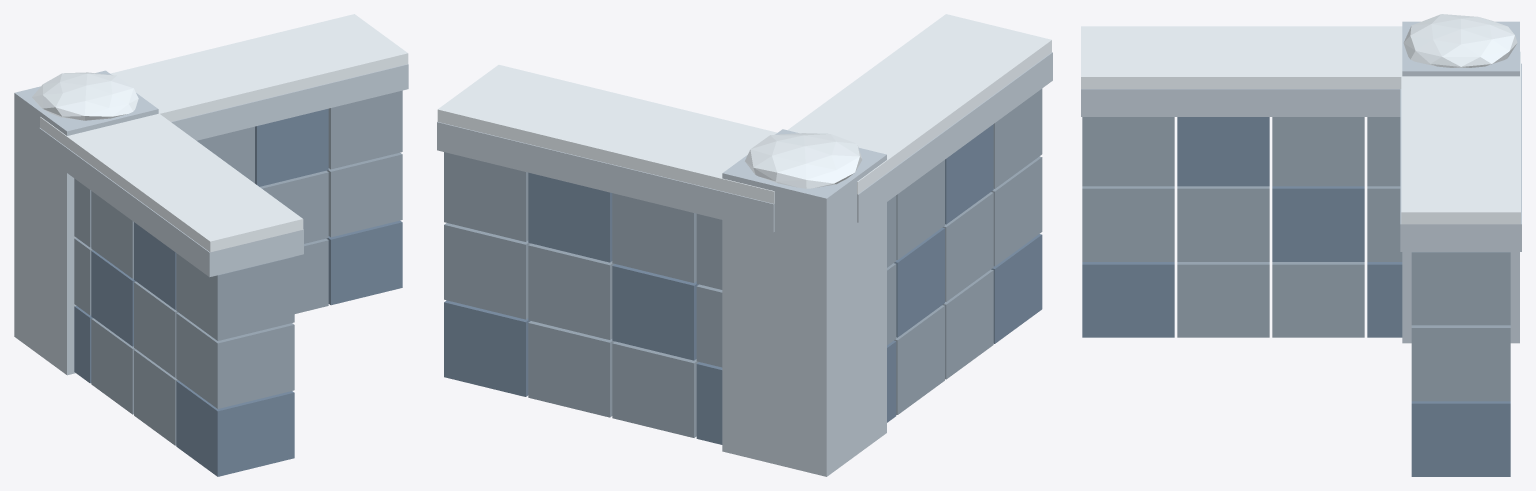
The model's file is wall-corner-snowy.glb.
3 renders of one model, left to right at view 1: azimuth 30°, elevation 25°; view 2: azimuth 150°, elevation 25°; view 3: azimuth 270°, elevation 25°, orthographic. The views are drawn at different scales.
Parts seen in each view (by area): view 1: wall-corner-kit-snowy-stone, wall-corner-kit-snowy-top, wall-corner-kit-snowy-light, wall-corner-kit-snowy-shade; view 2: wall-corner-kit-snowy-stone, wall-corner-kit-snowy-light, wall-corner-kit-snowy-top, wall-corner-kit-snowy-shade; view 3: wall-corner-kit-snowy-stone, wall-corner-kit-snowy-top, wall-corner-kit-snowy-shade, wall-corner-kit-snowy-light.
Part boxes in pixels (<box>): wall-corner-kit-snowy-stone: <box>74,90,402,445</box>; wall-corner-kit-snowy-top: <box>32,14,408,252</box>; wall-corner-kit-snowy-light: <box>14,64,408,375</box>; wall-corner-kit-snowy-shade: <box>74,108,402,476</box>; wall-corner-kit-snowy-stone: <box>444,88,1042,437</box>; wall-corner-kit-snowy-light: <box>437,52,1052,476</box>; wall-corner-kit-snowy-top: <box>437,14,1051,203</box>; wall-corner-kit-snowy-shade: <box>444,124,1042,444</box>; wall-corner-kit-snowy-stone: <box>1082,117,1510,401</box>; wall-corner-kit-snowy-top: <box>1081,14,1520,224</box>; wall-corner-kit-snowy-shade: <box>1082,117,1510,476</box>; wall-corner-kit-snowy-light: <box>1081,21,1521,343</box>.
Size of the model in its own units: 2.32 by 1.68 by 2.32.
